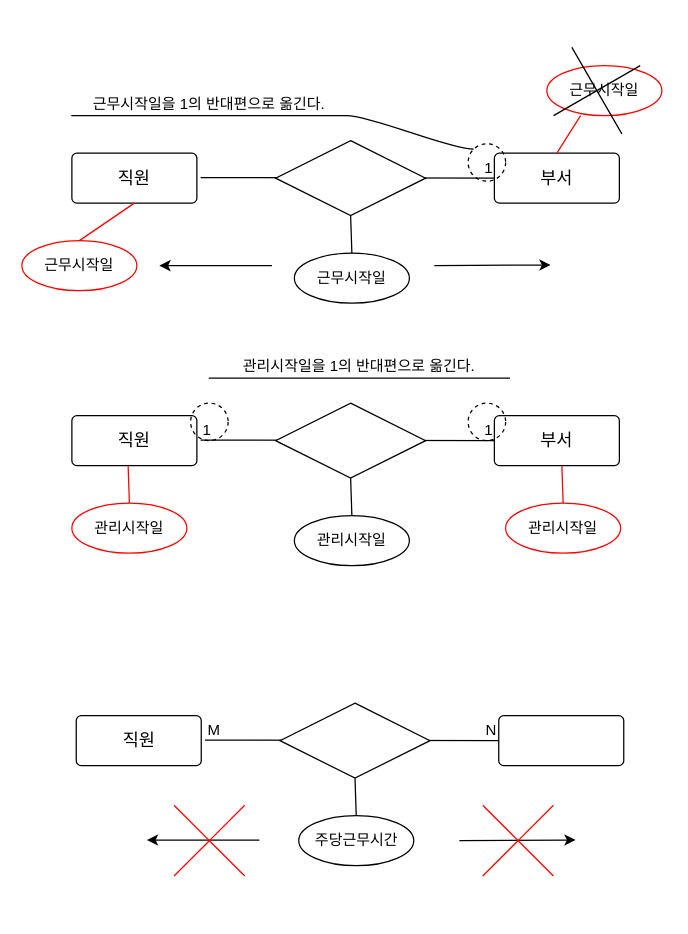
This 688x934 diagram has some shape labels left out. Here are the shapes that lost their labels. From the top down, the box of each, then its label:
(274, 139, 426, 216): 근무
(274, 402, 426, 478): 관리
(279, 702, 430, 778): 참여
(498, 714, 624, 766): 프로젝트
